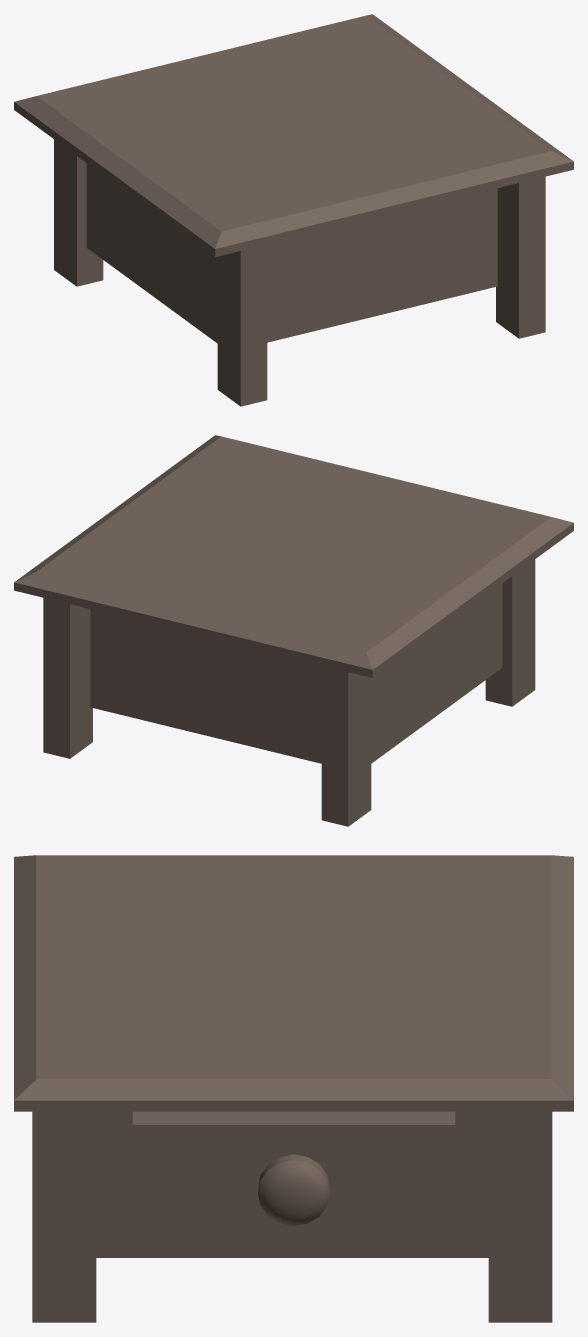
Rendered from Mesa_blocking.fbx.
The picture shows the model from 3 angles, top to bottom: view 1: azimuth 30°, elevation 25°; view 2: azimuth 150°, elevation 25°; view 3: azimuth 270°, elevation 25°; orthographic projection. The views are drawn at different scales.
Parts seen in each view (by area): view 1: Caja, Pata2, Pata, Pata3; view 2: Caja, Pata3, Pata1, Pata2; view 3: Caja, Cajon, Pata, Pata1, Manija.
Part boxes in pixels (x1,y1,x2,y2): Caja: (14,14,573,343); Pata2: (217,244,267,406); Pata: (496,176,545,338); Pata3: (54,139,103,286); Caja: (14,435,573,763); Pata3: (321,666,371,826); Pata1: (43,598,92,758); Pata2: (485,559,535,706); Caja: (14,855,573,1257); Cajon: (132,1111,455,1237); Pata: (32,1111,96,1322); Pata1: (488,1111,552,1322); Manija: (257,1154,330,1225).
Bounding box in the file's own units: 2.12 × 0.9894 × 2.02.
